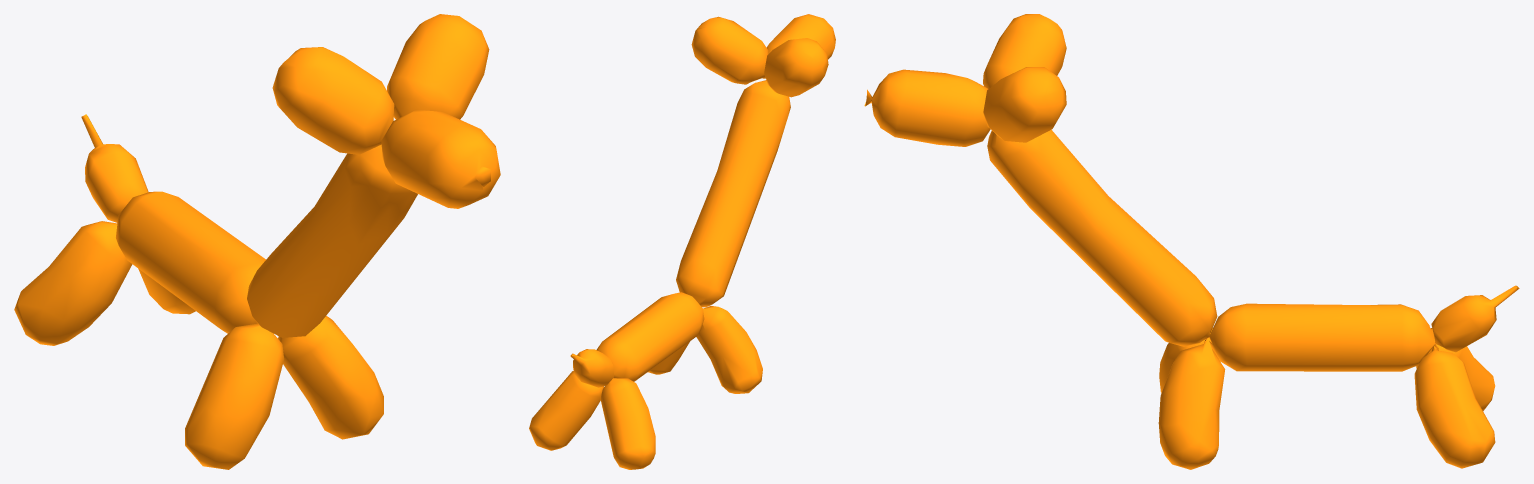
File: bcf59e84-ddb9-4dd0-ac72-e4b2d90f93e1.glb
The picture shows the model from 3 angles, left to right: view 1: azimuth 30°, elevation 25°; view 2: azimuth 150°, elevation 25°; view 3: azimuth 270°, elevation 25°; orthographic projection. The views are drawn at different scales.
Parts seen in each view (by area): view 1: BalloonAnimalTallOrange; view 2: BalloonAnimalTallOrange; view 3: BalloonAnimalTallOrange.
Boxes of the visible parts, box(x1,y1,x2,y2) form: BalloonAnimalTallOrange: box(14, 14, 500, 469); BalloonAnimalTallOrange: box(529, 14, 835, 469); BalloonAnimalTallOrange: box(864, 14, 1519, 469).
Size of what is drawn, in the model's own units: 0.2693 by 0.6135 by 0.9162.
1 material, 1 textured.
